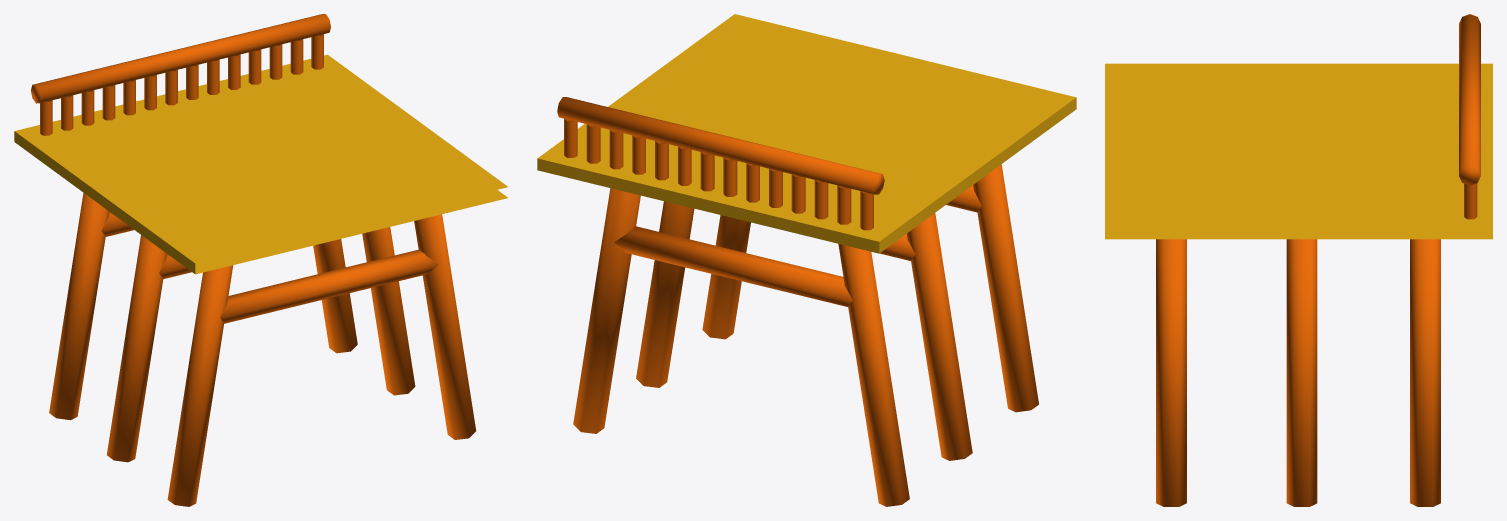
File: bridge_0.fbx
3 renders of one model, left to right at view 1: azimuth 30°, elevation 25°; view 2: azimuth 150°, elevation 25°; view 3: azimuth 270°, elevation 25°, orthographic. The views are drawn at different scales.
Visible parts, largest first — view 1: bridge_0; view 2: bridge_0; view 3: bridge_0.
Part boxes in pixels (bbox=[...]): bridge_0: bbox=[14, 14, 507, 506]; bridge_0: bbox=[537, 14, 1076, 506]; bridge_0: bbox=[1105, 14, 1492, 506].
Bounding box in the file's own units: 1500 × 1457 × 1500.
